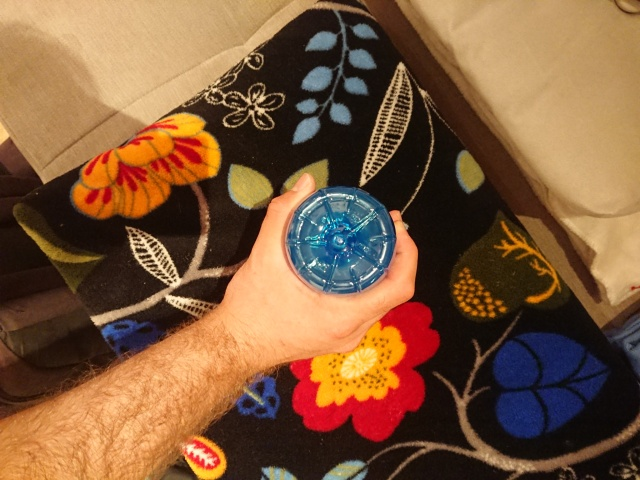Vindi Iso Sport Forest Strawberries 500mL: (282, 183, 399, 299)
